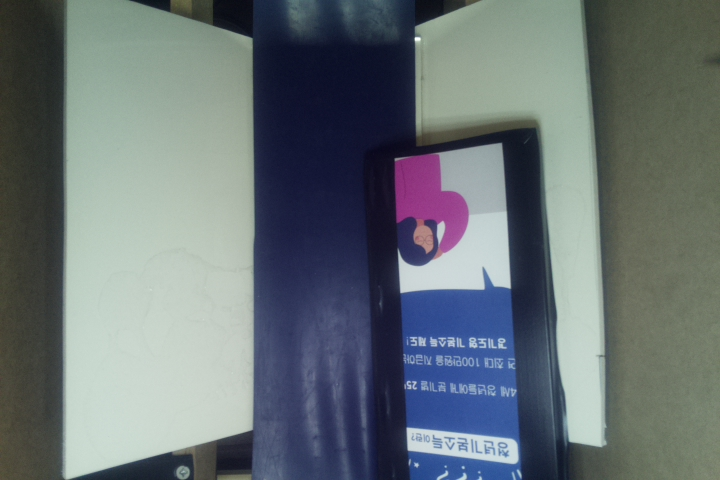book: (362, 129, 562, 480)
